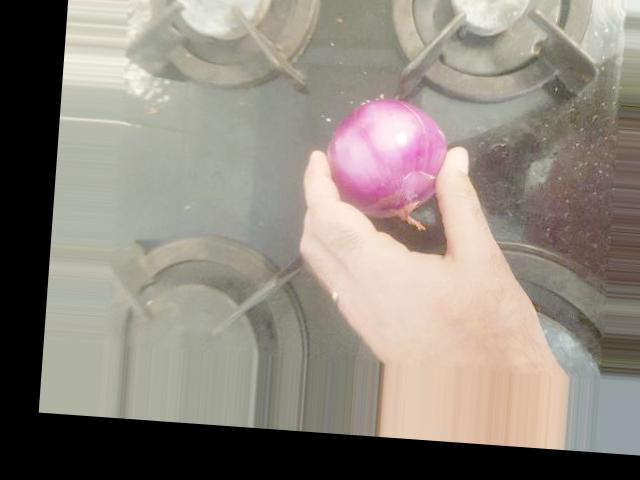onion: (230, 17, 353, 156)
